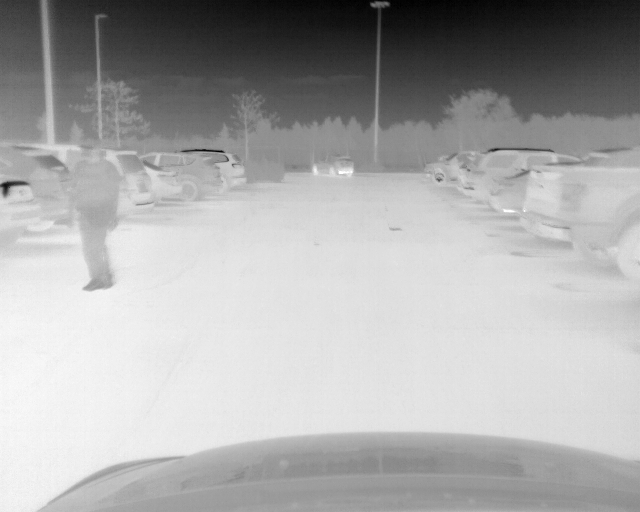car: (522, 147, 640, 279), (1, 146, 77, 249), (463, 149, 585, 199), (138, 151, 227, 204), (105, 150, 157, 233), (190, 151, 248, 196), (420, 148, 481, 188), (489, 169, 529, 216), (312, 156, 356, 178)
people: (69, 133, 121, 290)
